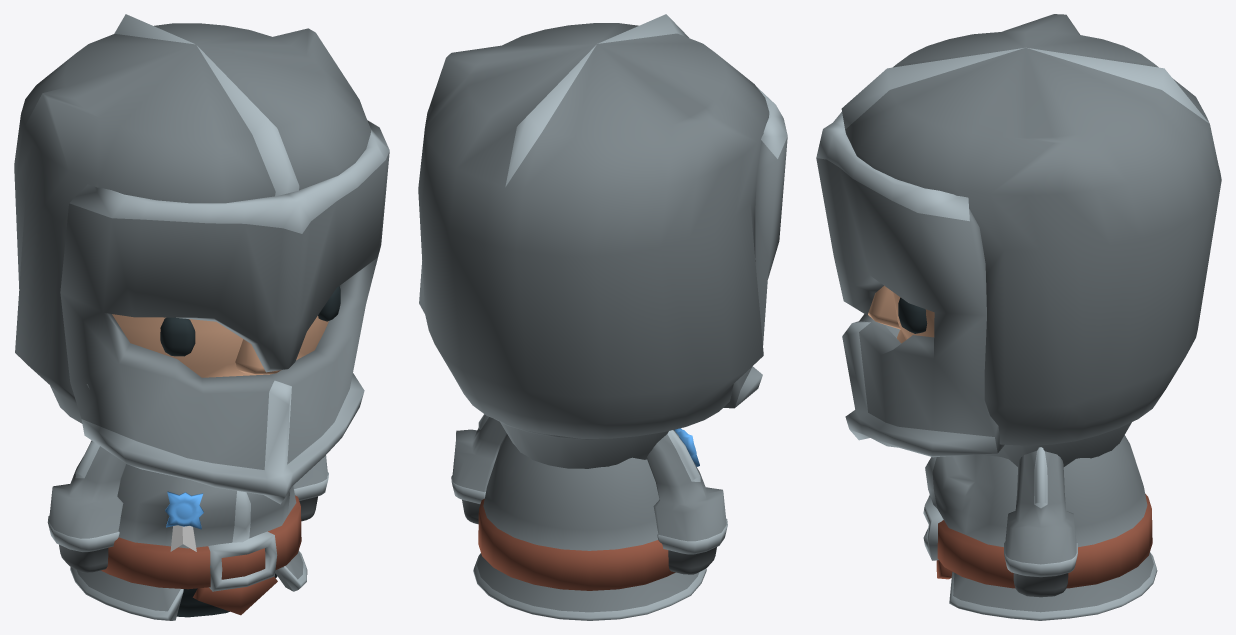
File: character_knight.glb
The picture shows the model from 3 angles, left to right: view 1: azimuth 30°, elevation 25°; view 2: azimuth 150°, elevation 25°; view 3: azimuth 270°, elevation 25°; orthographic projection.
Parts seen in each view (by area): view 1: character_knightHelmetVisor, character_knightHelmet, character_knightBody, character_knightArmRight, character_knightHead, character_knightArmLeft; view 2: character_knightHelmet, character_knightBody, character_knightArmRight, character_knightHelmetVisor, character_knightArmLeft; view 3: character_knightHelmet, character_knightHelmetVisor, character_knightBody, character_knightArmLeft, character_knightHead.
Part boxes in pixels (<box>): character_knightHelmetVisor: <box>60,120,389,504</box>; character_knightHelmet: <box>14,14,370,423</box>; character_knightBody: <box>70,464,307,620</box>; character_knightArmRight: <box>47,440,126,572</box>; character_knightHead: <box>112,286,340,377</box>; character_knightArmLeft: <box>293,455,328,521</box>; character_knightHelmet: <box>418,14,769,438</box>; character_knightBody: <box>473,419,706,620</box>; character_knightArmRight: <box>646,430,727,574</box>; character_knightHelmetVisor: <box>723,86,787,408</box>; character_knightArmLeft: <box>451,414,506,524</box>; character_knightHelmet: <box>841,14,1221,445</box>; character_knightHelmetVisor: <box>816,112,1004,457</box>; character_knightBody: <box>923,422,1157,620</box>; character_knightArmLeft: <box>1004,447,1077,597</box>; character_knightHead: <box>868,285,934,343</box>.
Size of the model in its own units: 1.21 by 1.95 by 1.33.
